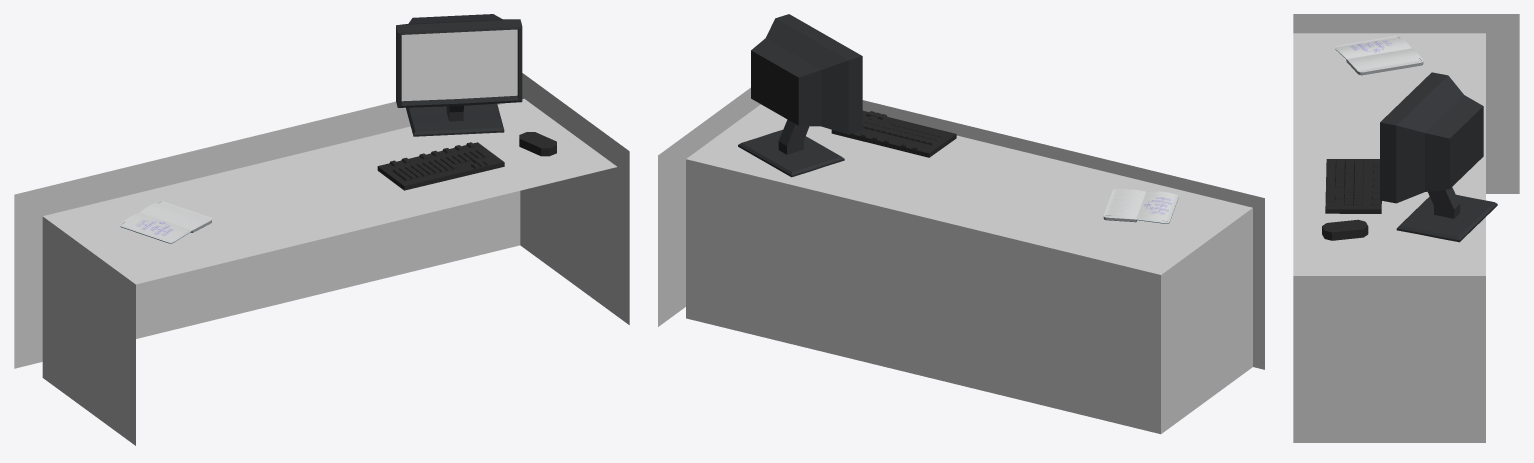
The model's file is unifor.glb.
3 renders of one model, left to right at view 1: azimuth 30°, elevation 25°; view 2: azimuth 150°, elevation 25°; view 3: azimuth 270°, elevation 25°, orthographic. The views are drawn at different scales.
Parts seen in each view (by area): view 1: Plane.001, Cube.002, Cube.004, notepad, Cube.005; view 2: Plane.001, Cube.002, Cube.004, notepad; view 3: Plane.001, Cube.002, Cube.004, notepad, Cube.005.
Part boxes in pixels (x1,y1,x2,y2): Plane.001: (14,73,629,445); Cube.002: (396,14,522,136); Cube.004: (377,142,504,190); notepad: (120,201,212,243); Cube.005: (519,132,556,156); Plane.001: (658,87,1264,434); Cube.002: (738,14,862,177); Cube.004: (831,110,956,157); notepad: (1103,189,1178,223); Plane.001: (1293,14,1519,442); Cube.002: (1380,72,1497,242); Cube.004: (1325,159,1381,213); notepad: (1335,36,1423,75); Cube.005: (1322,219,1368,240).
Size of what is drawn, in the model's own units: 1.83 by 0.9798 by 0.6846.
Materials: 5 (2 with a texture image).
